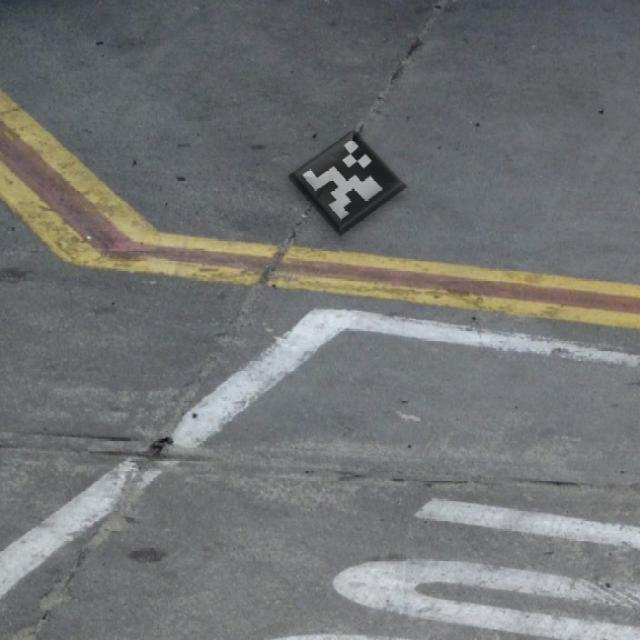marker: (283, 122, 418, 248)
